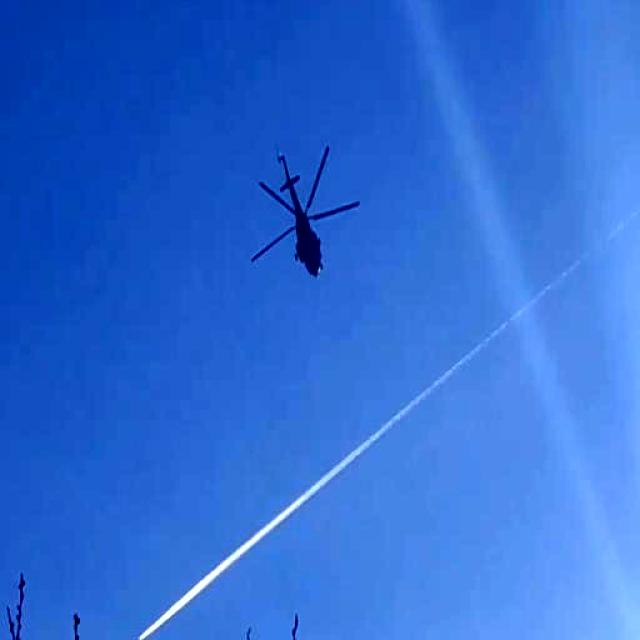drone: (250, 138, 365, 294)
